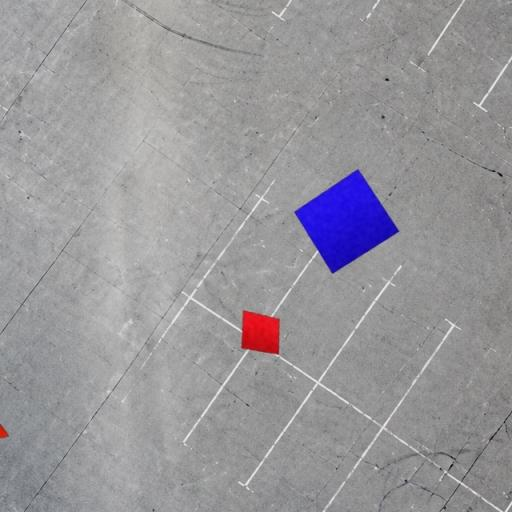BLUE_SQUARE: (294, 168, 400, 274)
RED_SQUARE: (241, 310, 280, 355)
